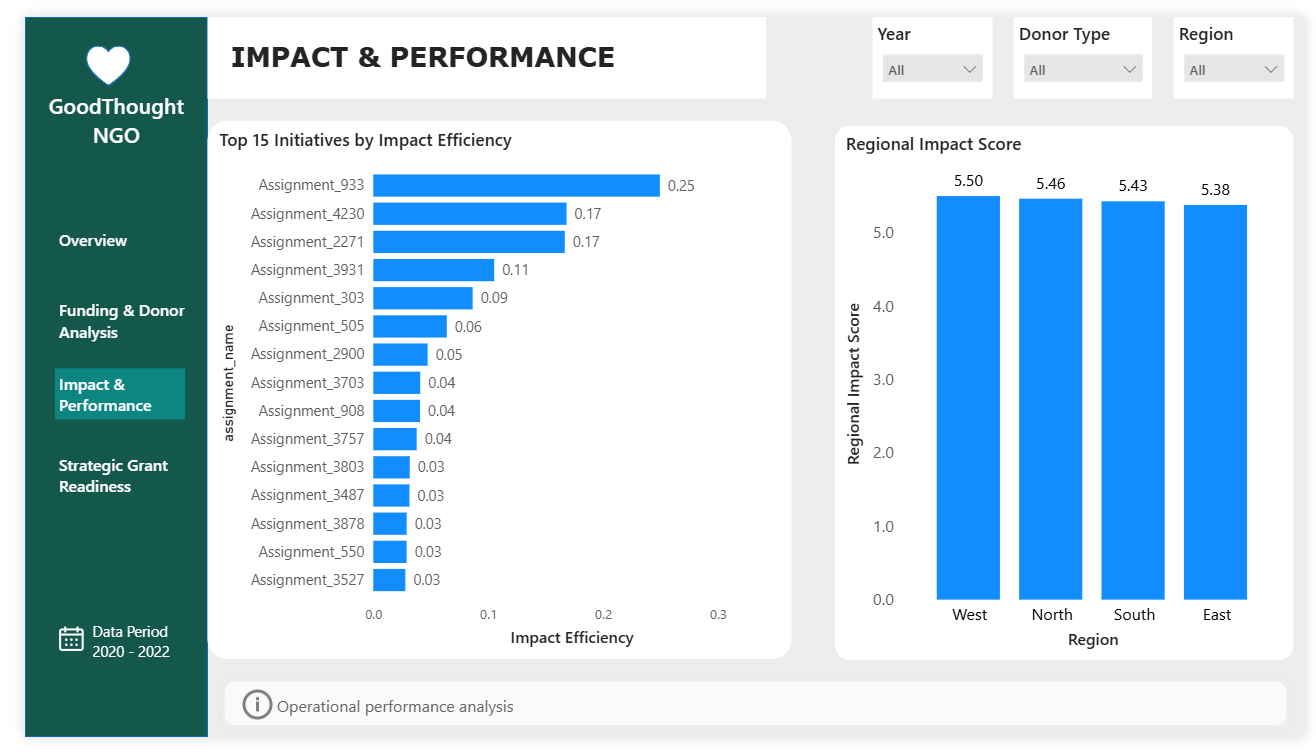

Layout of this report page (visuals, bound fields, positions):
{"tool":"powerbi","page":{"name":"Impact & Performance","canvas":[1280,720],"ordinal":2},"visuals":[{"type":"shape","box":[0,0,182.9,720],"z":0},{"type":"shape","box":[61.4,28.2,44.3,40],"z":1000},{"type":"textbox","box":[0,68.2,182.9,71.4],"z":2000},{"type":"slicer","fields":{"Values":["public donations.Year"]},"box":[847.1,0,120,81.4],"z":3000},{"type":"slicer","fields":{"Values":["public donors.donor_type"]},"box":[988.6,0,138.6,81.4],"z":4000},{"type":"slicer","fields":{"Values":["public assignments.region"]},"box":[1148.6,0,120,81.4],"z":5000},{"type":"actionButton","box":[30,194.3,130,57.1],"z":6000},{"type":"actionButton","box":[30,274.5,135.7,55.7],"z":7000},{"type":"actionButton","box":[30,351.7,130,51.4],"z":8000},{"type":"actionButton","box":[30,424.5,140,65.7],"z":9000},{"type":"textbox","box":[62.9,598.6,90,50],"z":10000},{"type":"image","box":[30,601.4,32.9,41.4],"z":11000},{"type":"shape","box":[194.3,658.6,1074.3,55.7],"z":12000},{"type":"actionButton","box":[212.9,667.1,280,40],"z":13000},{"type":"textbox","box":[182.9,0,558.6,81.4],"z":14000},{"type":"clusteredBarChart","title":"Top 15 Initiatives by Impact Efficiency","fields":{"Category":["public assignments.assignment_name"],"Y":["public assignments.Impact Efficiency"]},"box":[182.9,104.3,584.3,538.6],"z":15000},{"type":"columnChart","title":"Regional Impact Score","fields":{"Category":["public vw_regional_impact_summary.region"],"Y":["public vw_regional_impact_summary.Regional Impact Score"]},"box":[810,108.6,458.6,534.3],"z":16000}]}

Visuals, with their boxes on the page's 1280x720 design canvas (x1, y1, x2, y2). These are canvas units, not pixel positions in the 1316x752 screenshot, which may show the page scaled, cropped or inside an application window:
shape: 0:0:183:720
shape: 61:28:106:68
textbox: 0:68:183:140
slicer - public donations.Year: 847:0:967:81
slicer - public donors.donor_type: 989:0:1127:81
slicer - public assignments.region: 1149:0:1269:81
actionButton: 30:194:160:251
actionButton: 30:274:166:330
actionButton: 30:352:160:403
actionButton: 30:424:170:490
textbox: 63:599:153:649
image: 30:601:63:643
shape: 194:659:1269:714
actionButton: 213:667:493:707
textbox: 183:0:742:81
"Top 15 Initiatives by Impact Efficiency" clusteredBarChart: 183:104:767:643
"Regional Impact Score" columnChart: 810:109:1269:643
